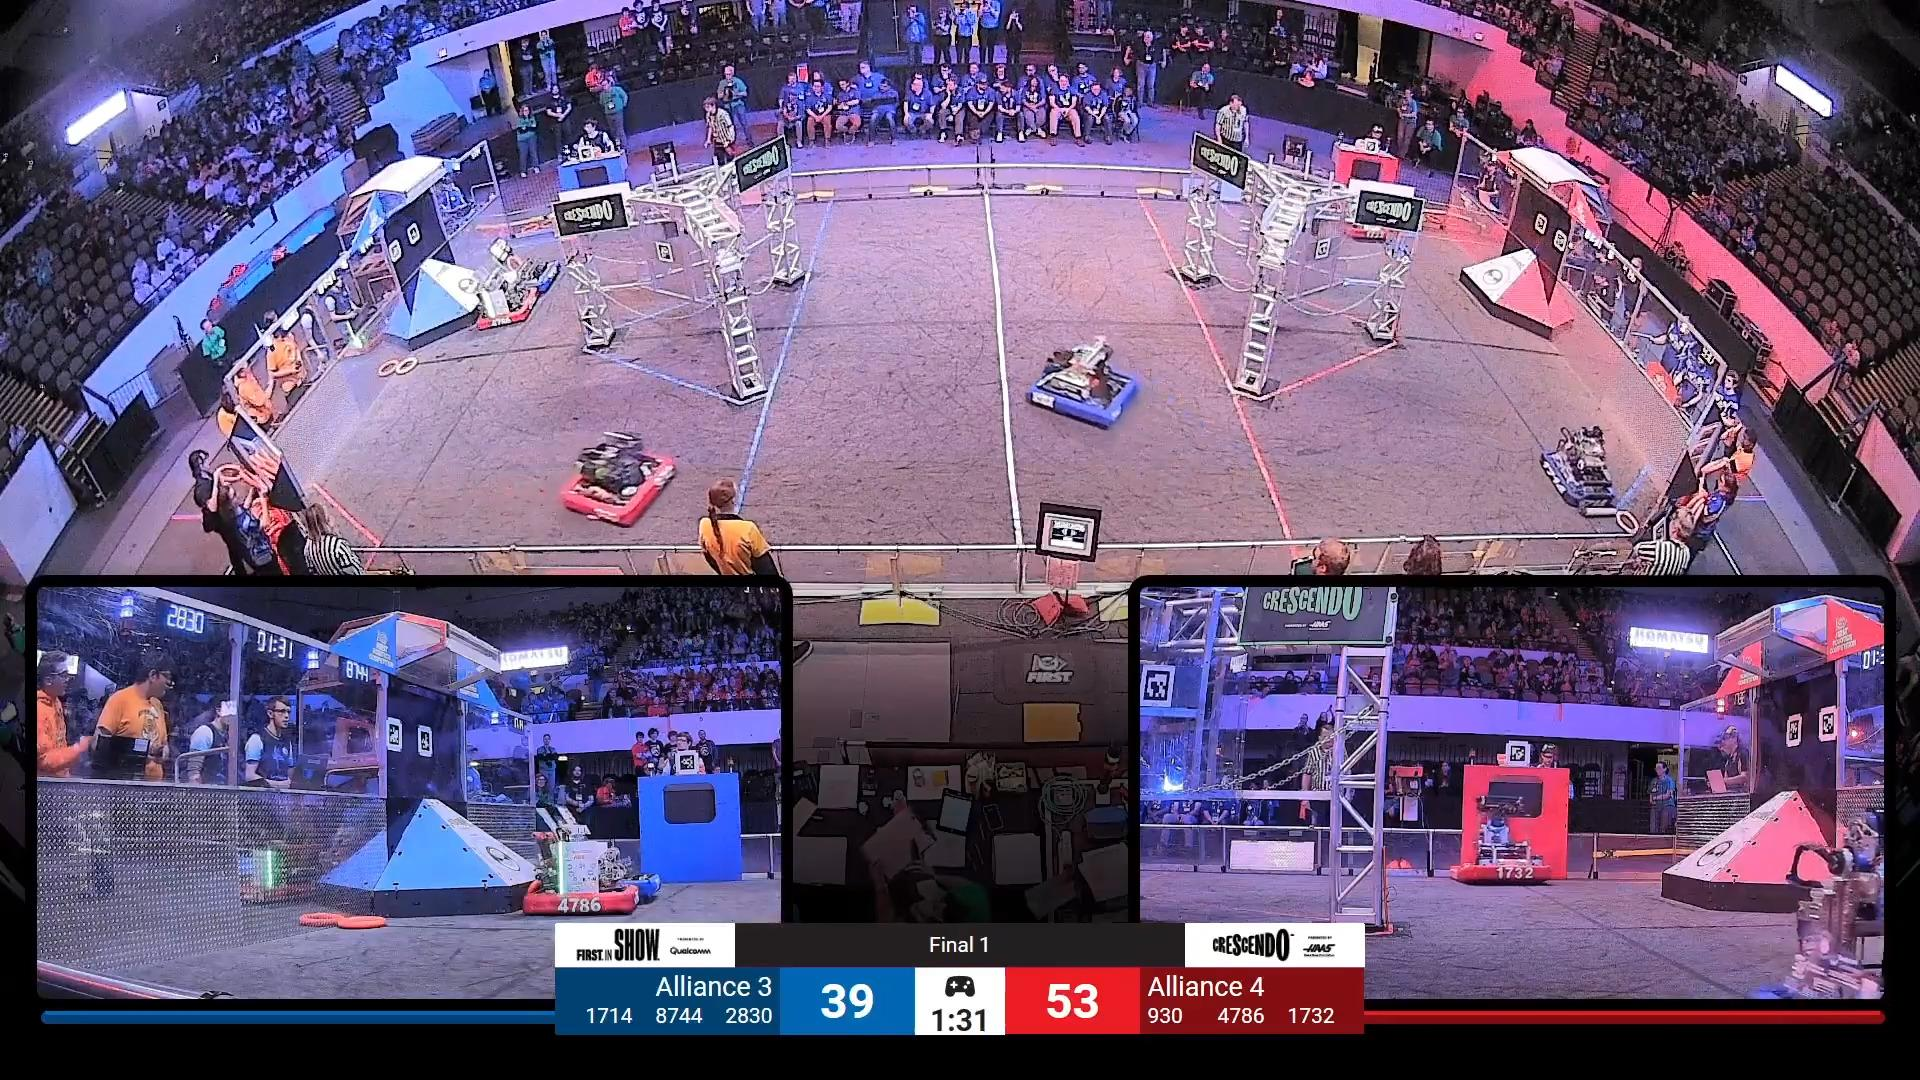robot: (527, 798, 641, 915), (545, 804, 667, 903), (560, 429, 676, 529), (1451, 791, 1563, 882), (1026, 336, 1137, 426), (1543, 426, 1617, 517), (491, 237, 562, 295), (476, 282, 534, 334)
